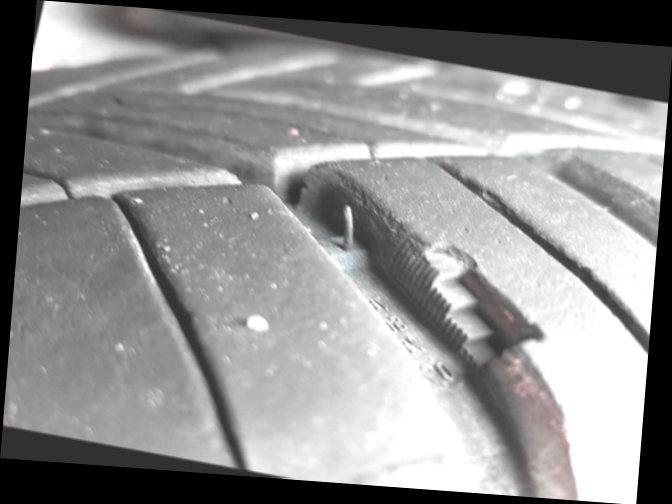temoin:90: (346, 216, 573, 395)
